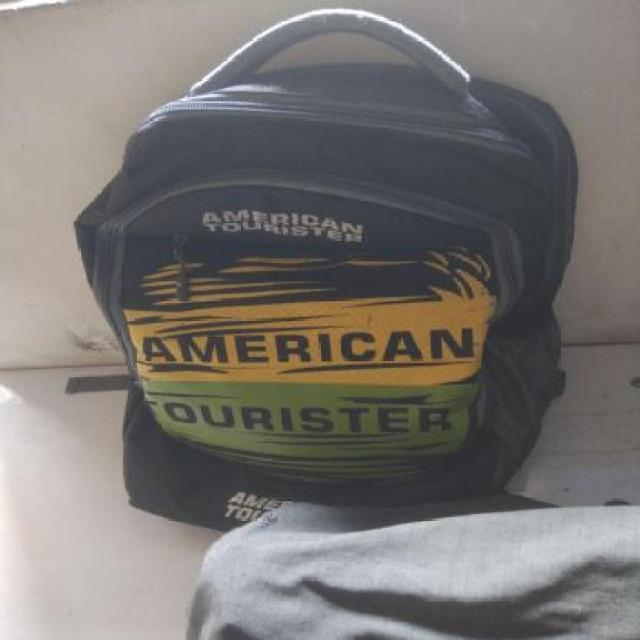backpack: (71, 2, 583, 530)
